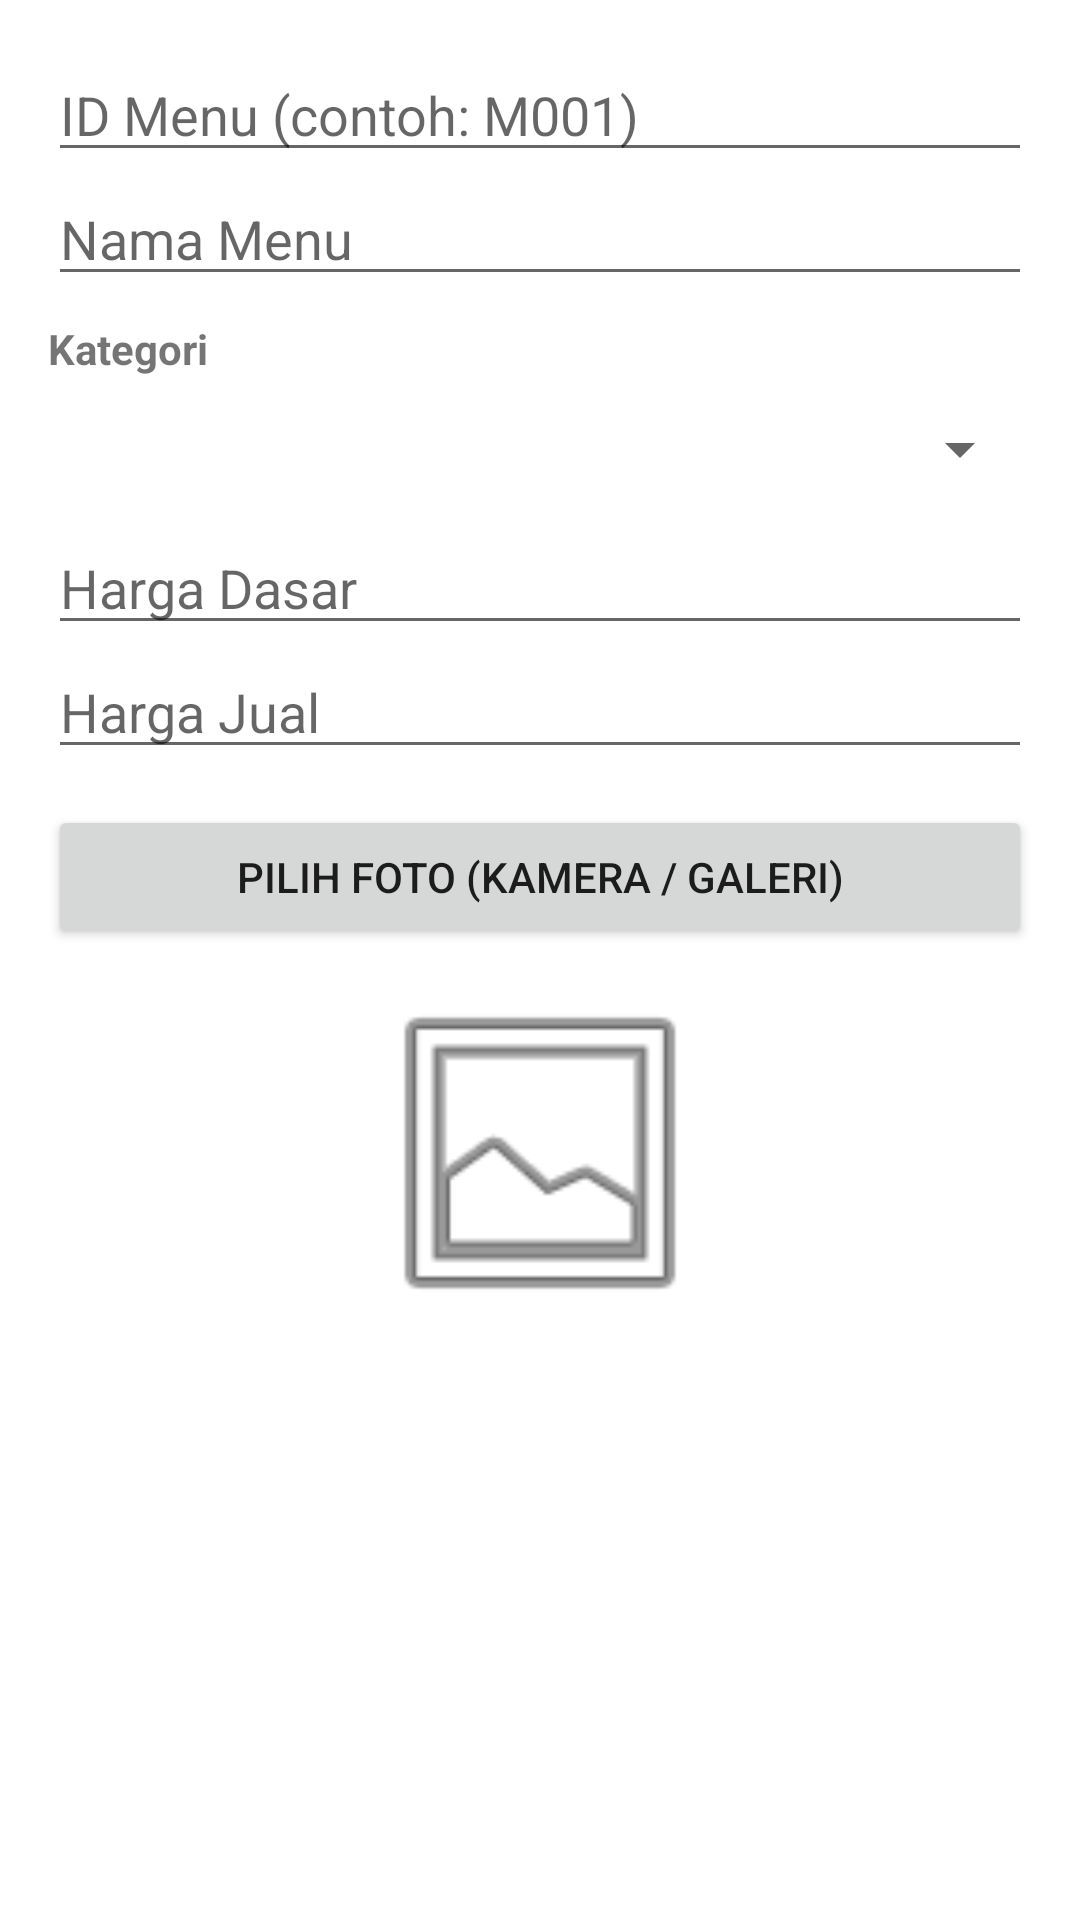

Icon bounding boxes for this 1080*1920 phone screenshot, format Rect(x1, y1, x2, y2):
gallery: Rect(404, 1017, 676, 1289)
